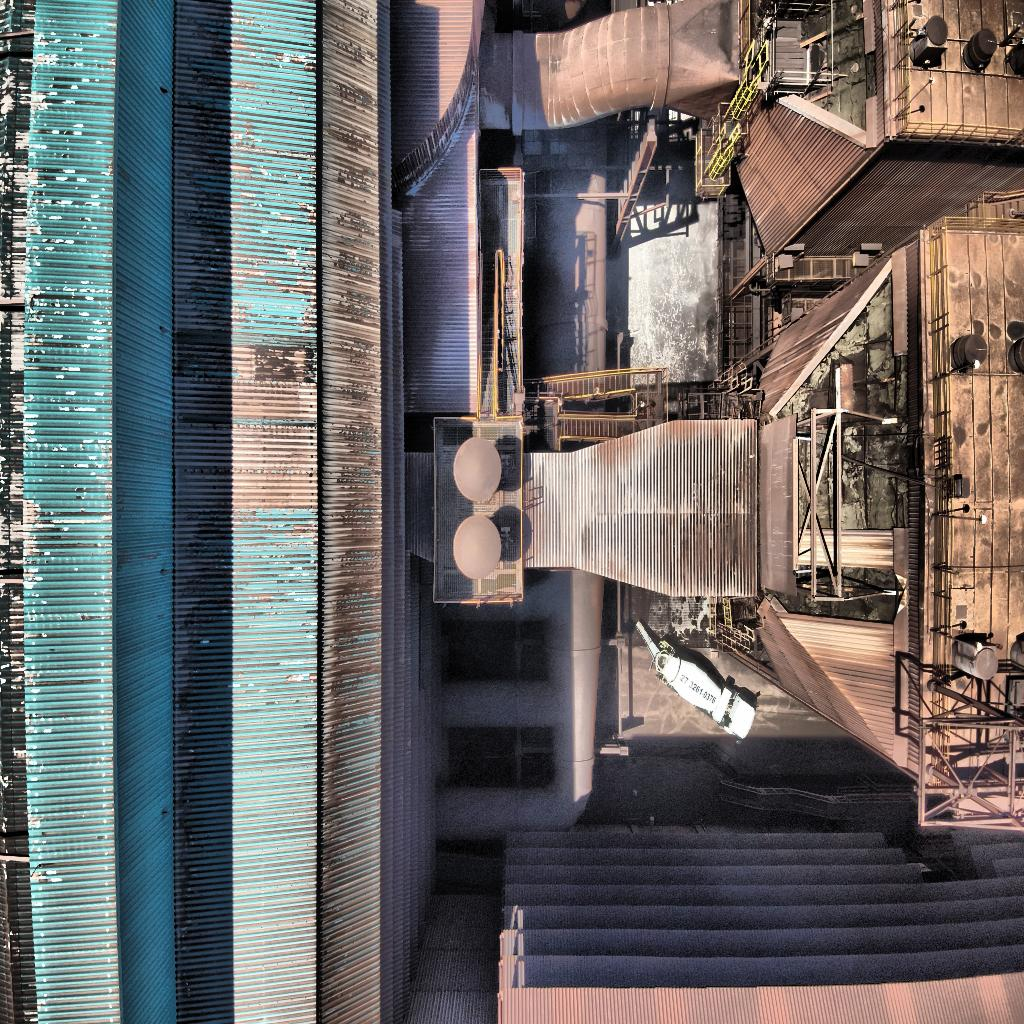Failures: (773, 257, 909, 625), (767, 1, 878, 132), (763, 557, 912, 640)
